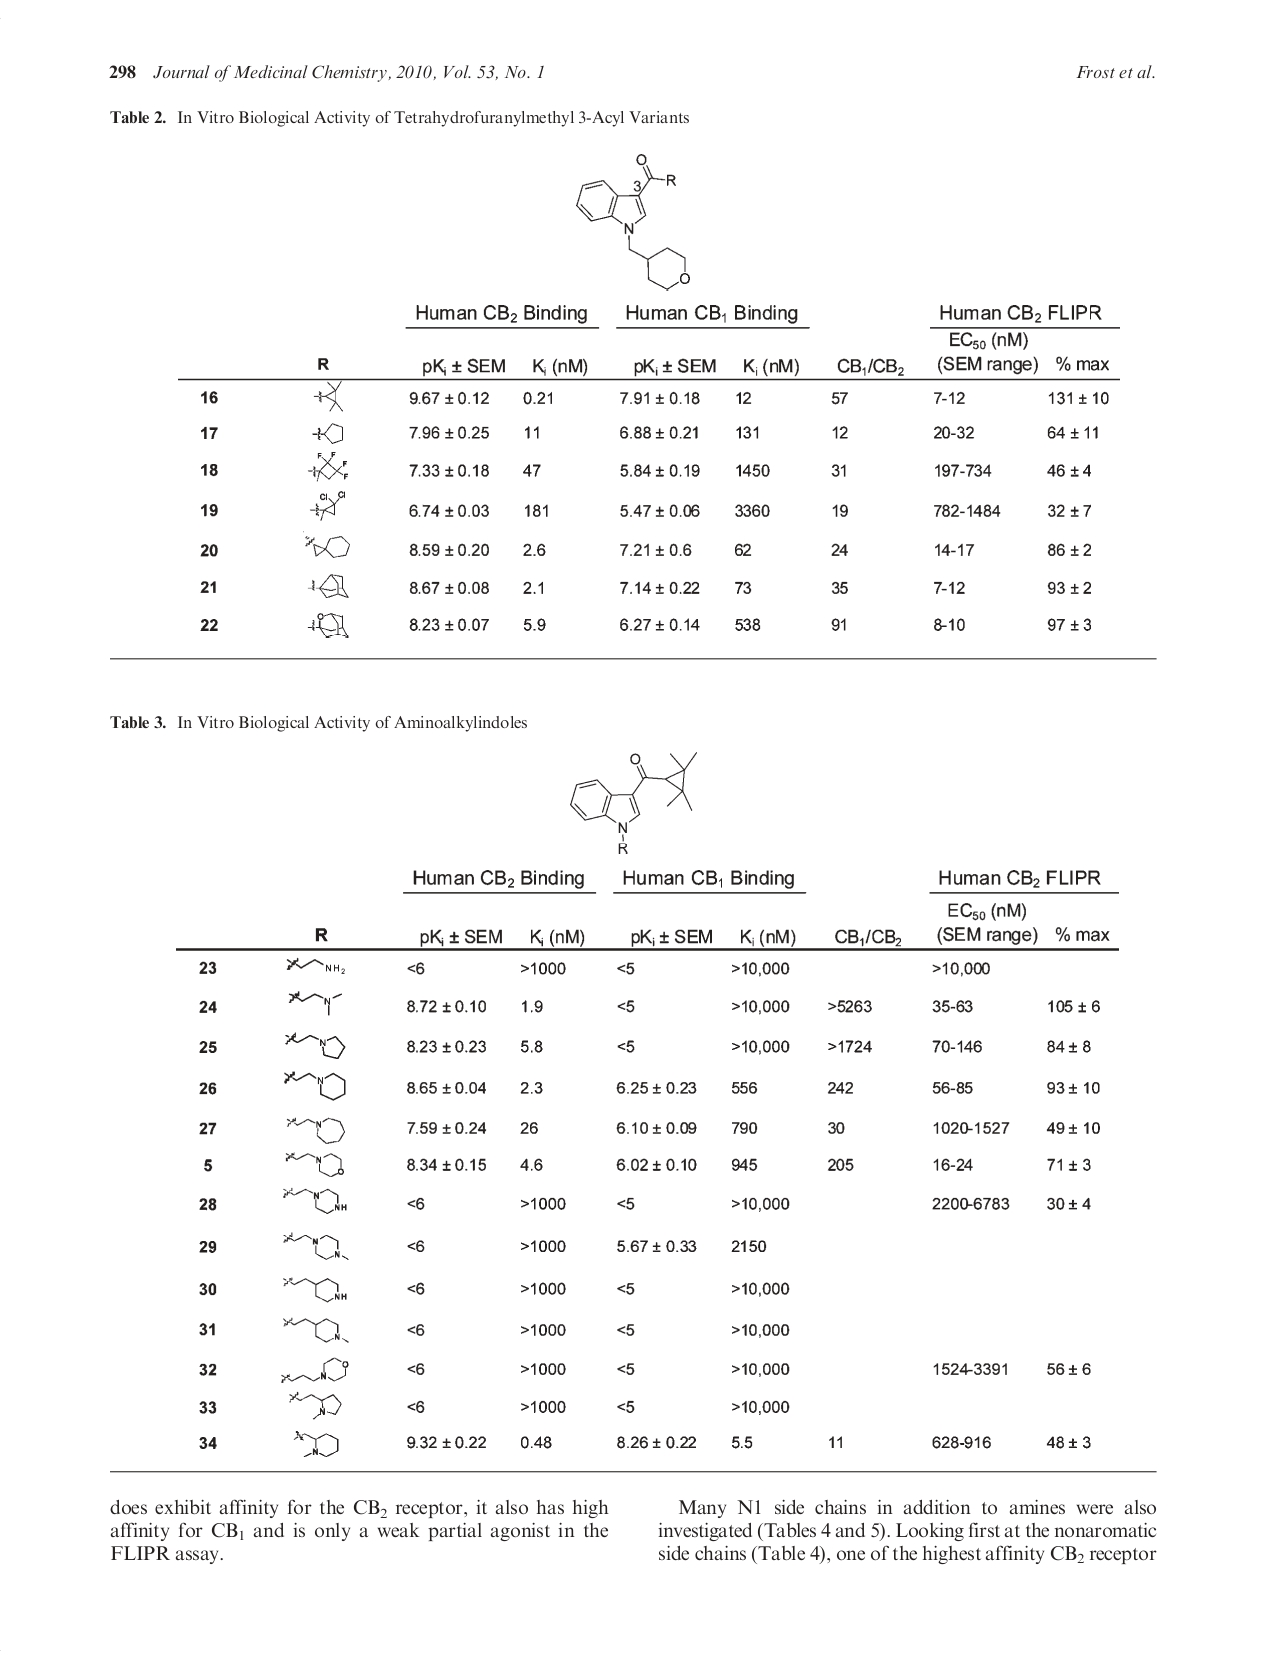exist_molecular: (574, 152, 692, 293), (570, 747, 699, 856), (281, 1230, 350, 1261), (282, 1071, 347, 1101), (281, 1317, 350, 1345), (279, 1356, 348, 1384), (281, 1275, 348, 1303), (281, 1186, 347, 1214), (283, 1031, 344, 1060), (286, 1114, 344, 1145), (286, 1390, 342, 1420), (285, 1150, 344, 1178), (289, 989, 344, 1017), (293, 1430, 339, 1458), (309, 488, 347, 521), (309, 451, 348, 481), (303, 533, 351, 559), (307, 610, 350, 638), (307, 573, 350, 598), (314, 379, 344, 414), (285, 956, 344, 973), (313, 422, 344, 446)
